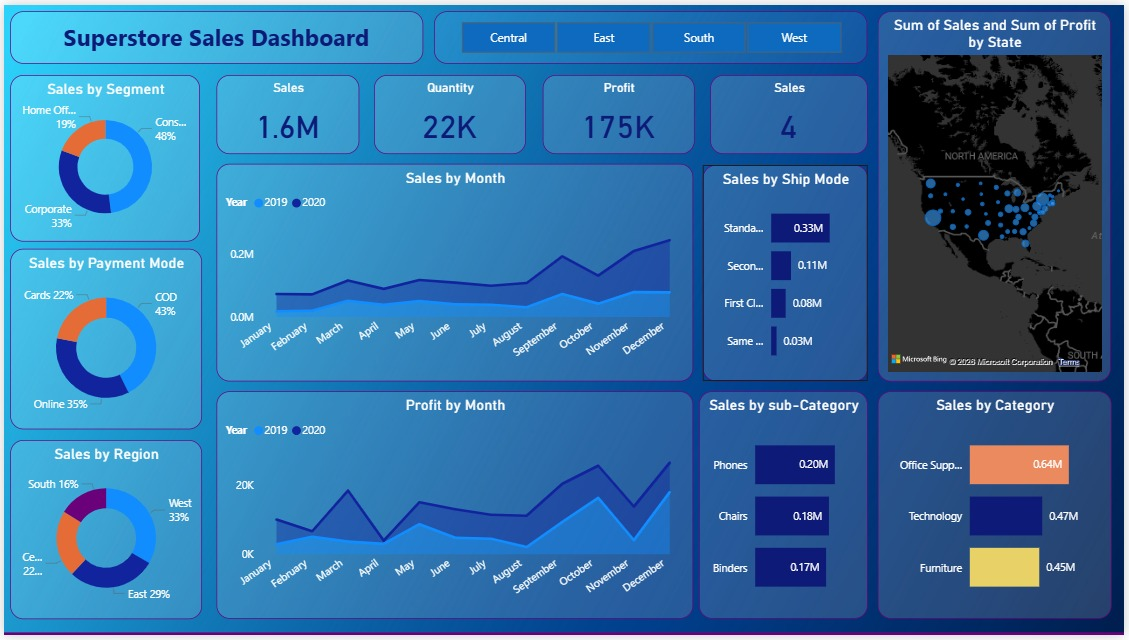

What the dashboard file says about the page in this screenshot:
{"tool":"powerbi","page":{"name":"Page 1","canvas":[1280,720],"ordinal":0},"visuals":[{"type":"clusteredBarChart","title":"Sales by Category","fields":{"Category":["Sheet1.Category"],"Y":["Sum(Sheet1.Sales)"]},"box":[998.6,441.4,267.1,260],"z":0},{"type":"clusteredBarChart","title":"Sales by sub-Category","fields":{"Category":["Sheet1.Sub-Category"],"Y":["Sum(Sheet1.Sales)"]},"box":[794,441,193,260],"z":1000},{"type":"clusteredBarChart","title":"Sales by Ship Mode","fields":{"Category":["Sheet1.Ship Mode"],"Y":["Sum(Sheet1.Sales)"]},"box":[798,183,189,247],"z":2000},{"type":"stackedAreaChart","title":"Profit by Month","fields":{"Category":["Sheet1.Order Date.Variation.Date Hierarchy.Month","Sheet1.Order Date.Variation.Date Hierarchy.Day"],"Series":["Sheet1.Order Date.Variation.Date Hierarchy.Year"],"Y":["Sum(Sheet1.Profit)"]},"box":[243,441,545,260],"z":3000},{"type":"stackedAreaChart","title":"Sales by Month","fields":{"Y":["Sum(Sheet1.Sales)"],"Category":["Sheet1.Order Date.Variation.Date Hierarchy.Month","Sheet1.Order Date.Variation.Date Hierarchy.Day"],"Series":["Sheet1.Order Date.Variation.Date Hierarchy.Year"]},"box":[243,181,545,249],"z":4000},{"type":"map","fields":{"Category":["Sheet1.State"],"Size":["Sum(Sheet1.Sales)"]},"box":[998.3,6.7,266.7,423.3],"z":5000},{"type":"donutChart","title":"Sales by Segment","fields":{"Category":["Sheet1.Segment"],"Y":["Sum(Sheet1.Sales)"]},"box":[7.1,80,217.1,190],"z":6000},{"type":"donutChart","title":"Sales by Payment Mode","fields":{"Category":["Sheet1.Payment Mode"],"Y":["Sum(Sheet1.Sales)"]},"box":[6.7,278.9,218.9,206.7],"z":7000},{"type":"slicer","fields":{"Values":["Sheet1.Region"]},"box":[491.7,6.7,495,60],"z":8000},{"type":"textbox","box":[6.9,6.9,471.9,60],"z":9000},{"type":"card","title":"Sales","fields":{"Values":["Sum(Sheet1.Sales)"]},"box":[243.3,80,163.3,90],"z":10000},{"type":"card","title":"Quantity","fields":{"Values":["Sum(Sheet1.Quantity)"]},"box":[423.3,80,173.3,90],"z":11000},{"type":"card","title":"Profit","fields":{"Values":["Sum(Sheet1.Profit)"]},"box":[615,80,173.3,90],"z":12000},{"type":"card","title":"Sales","fields":{"Values":["Avg(Sheet1.AvgDelivery)"]},"box":[806.7,80,180,90],"z":13000},{"type":"donutChart","title":"Sales by Region","fields":{"Category":["Sheet1.Region"],"Y":["Sum(Sheet1.Sales)"]},"box":[7.8,496.7,218.9,204.4],"z":14000}]}

Visuals, with their boxes in screenshot pixels (x1, y1, x2, y2), scaled from the page's 1280x720 canvas onto the 1129x640 screenshot:
"Sales by Category" clusteredBarChart: (left=881, top=392, right=1116, bottom=623)
"Sales by sub-Category" clusteredBarChart: (left=700, top=392, right=871, bottom=623)
"Sales by Ship Mode" clusteredBarChart: (left=704, top=163, right=871, bottom=382)
"Profit by Month" stackedAreaChart: (left=214, top=392, right=695, bottom=623)
"Sales by Month" stackedAreaChart: (left=214, top=161, right=695, bottom=382)
map - Sheet1.State x Sum(Sheet1.Sales): (left=881, top=6, right=1116, bottom=382)
"Sales by Segment" donutChart: (left=6, top=71, right=198, bottom=240)
"Sales by Payment Mode" donutChart: (left=6, top=248, right=199, bottom=432)
slicer - Sheet1.Region: (left=434, top=6, right=870, bottom=59)
textbox: (left=6, top=6, right=422, bottom=59)
"Sales" card: (left=215, top=71, right=359, bottom=151)
"Quantity" card: (left=373, top=71, right=526, bottom=151)
"Profit" card: (left=542, top=71, right=695, bottom=151)
"Sales" card: (left=712, top=71, right=870, bottom=151)
"Sales by Region" donutChart: (left=7, top=442, right=200, bottom=623)
